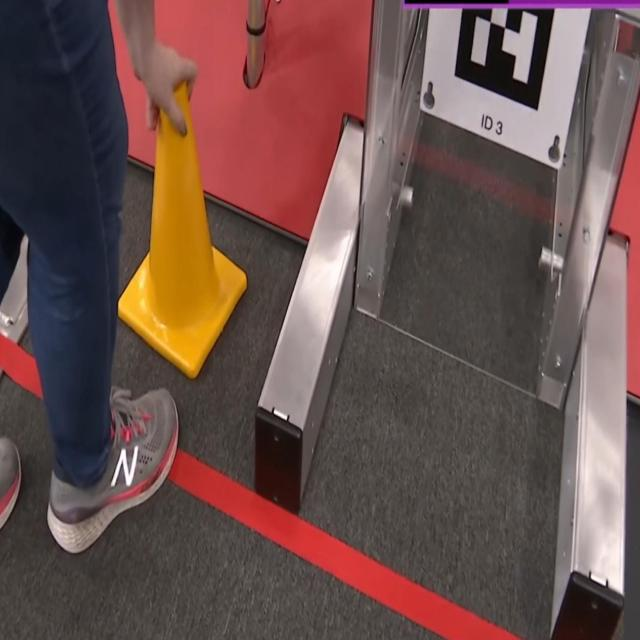frc_cone: (114, 66, 248, 381)
